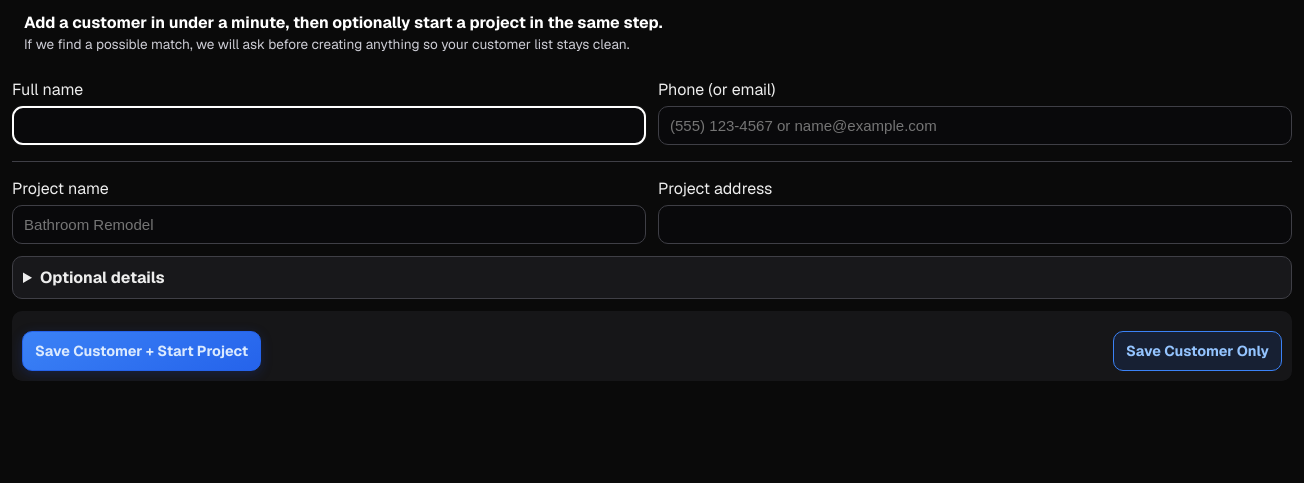
Scenario: QuickAddConsole › shows success message on customer_and_project submission
Type "Jane Doe" into the field labelled "Full name". click: (329, 126)
box: x1=12 y1=106 x2=646 y2=145
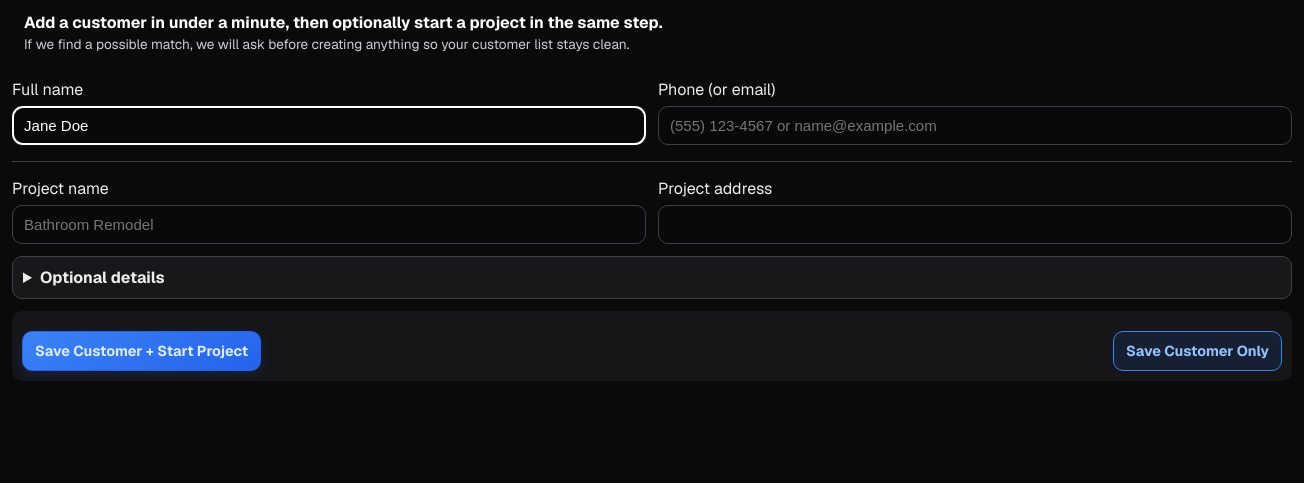
Type "5551234567" into the field labelled "Phone (or email)". click: (975, 126)
box: x1=658 y1=106 x2=1292 y2=145
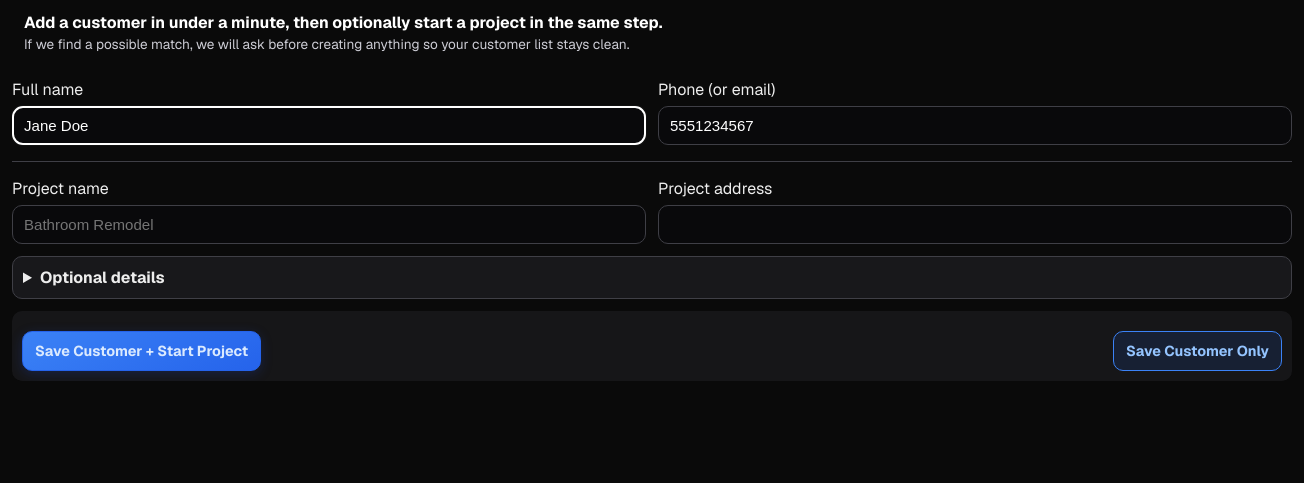
Type "Jane Doe Project" into the field labelled "Project name". click: (329, 224)
box: x1=12 y1=205 x2=646 y2=244
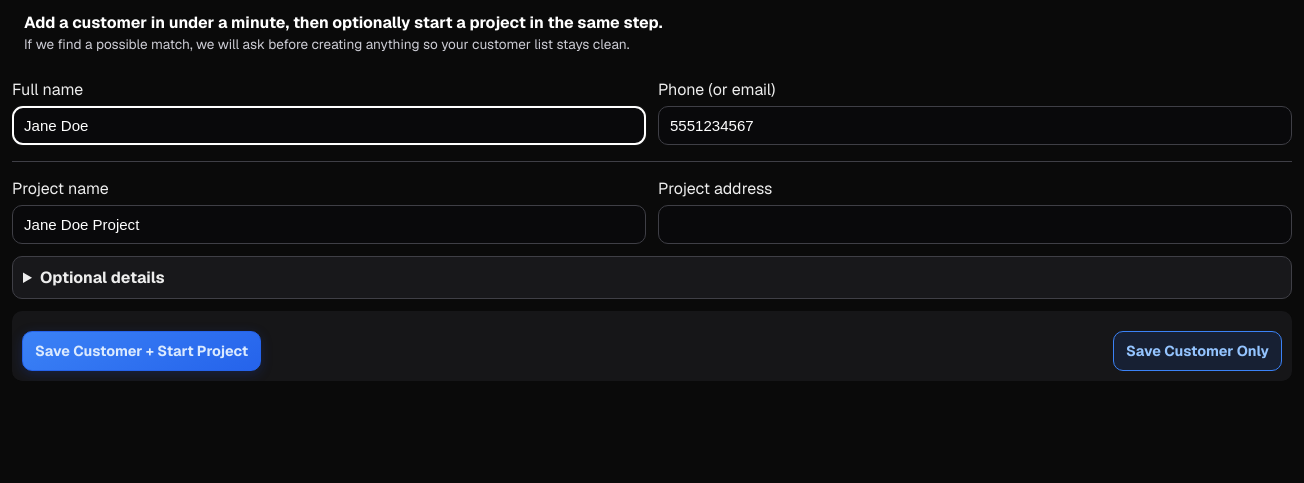
Type "123 Main St" into the field labelled "Project address". click: (975, 224)
box: x1=658 y1=205 x2=1292 y2=244
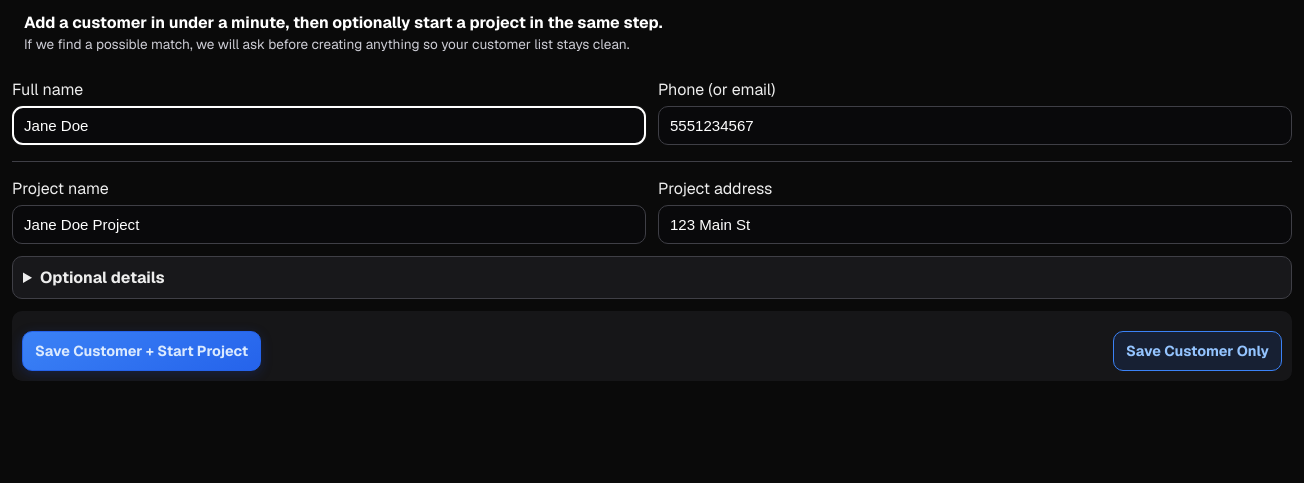
Click the button "Save Customer + Start Project". click: (142, 351)
box: x1=22 y1=331 x2=261 y2=371
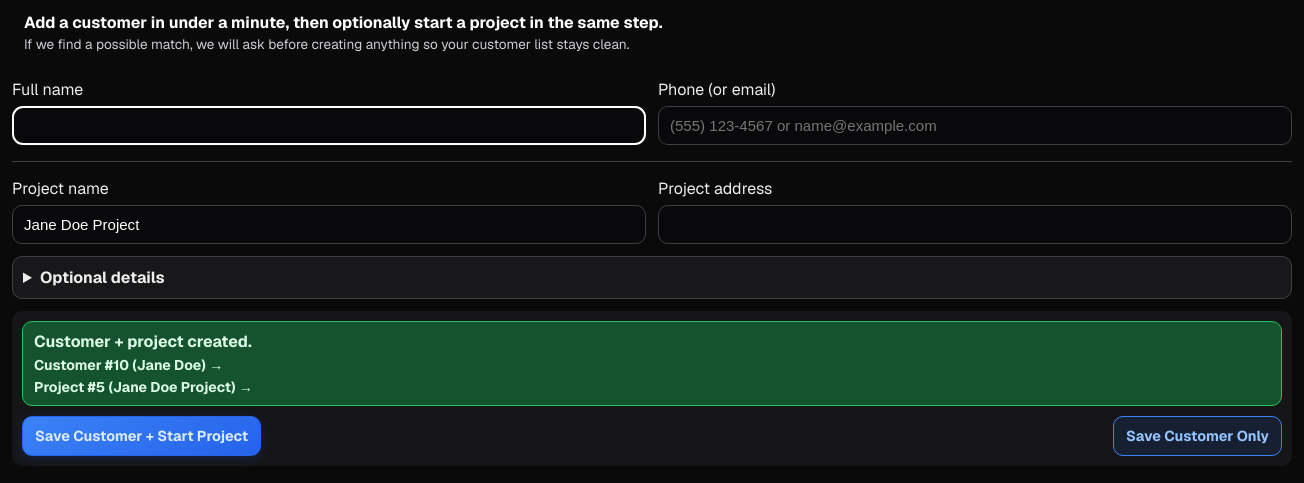
Now the text "Customer + project created." is shown, box x1=34 y1=331 x2=252 y2=352
